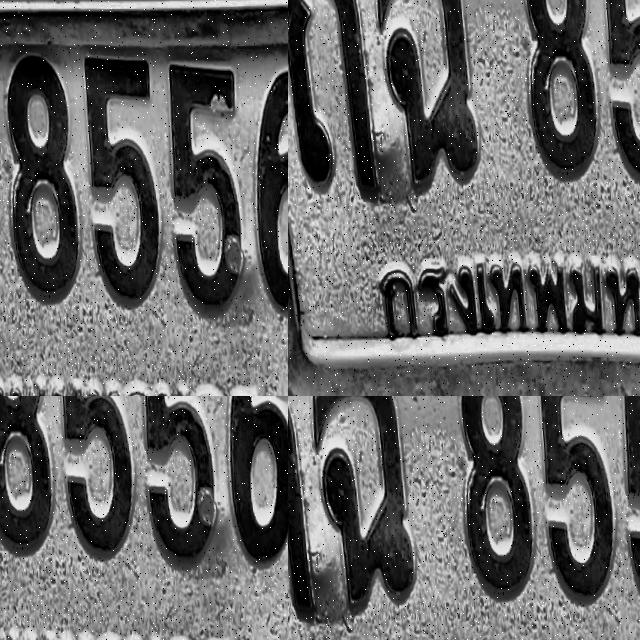license-plate: (288, 396, 640, 640)
